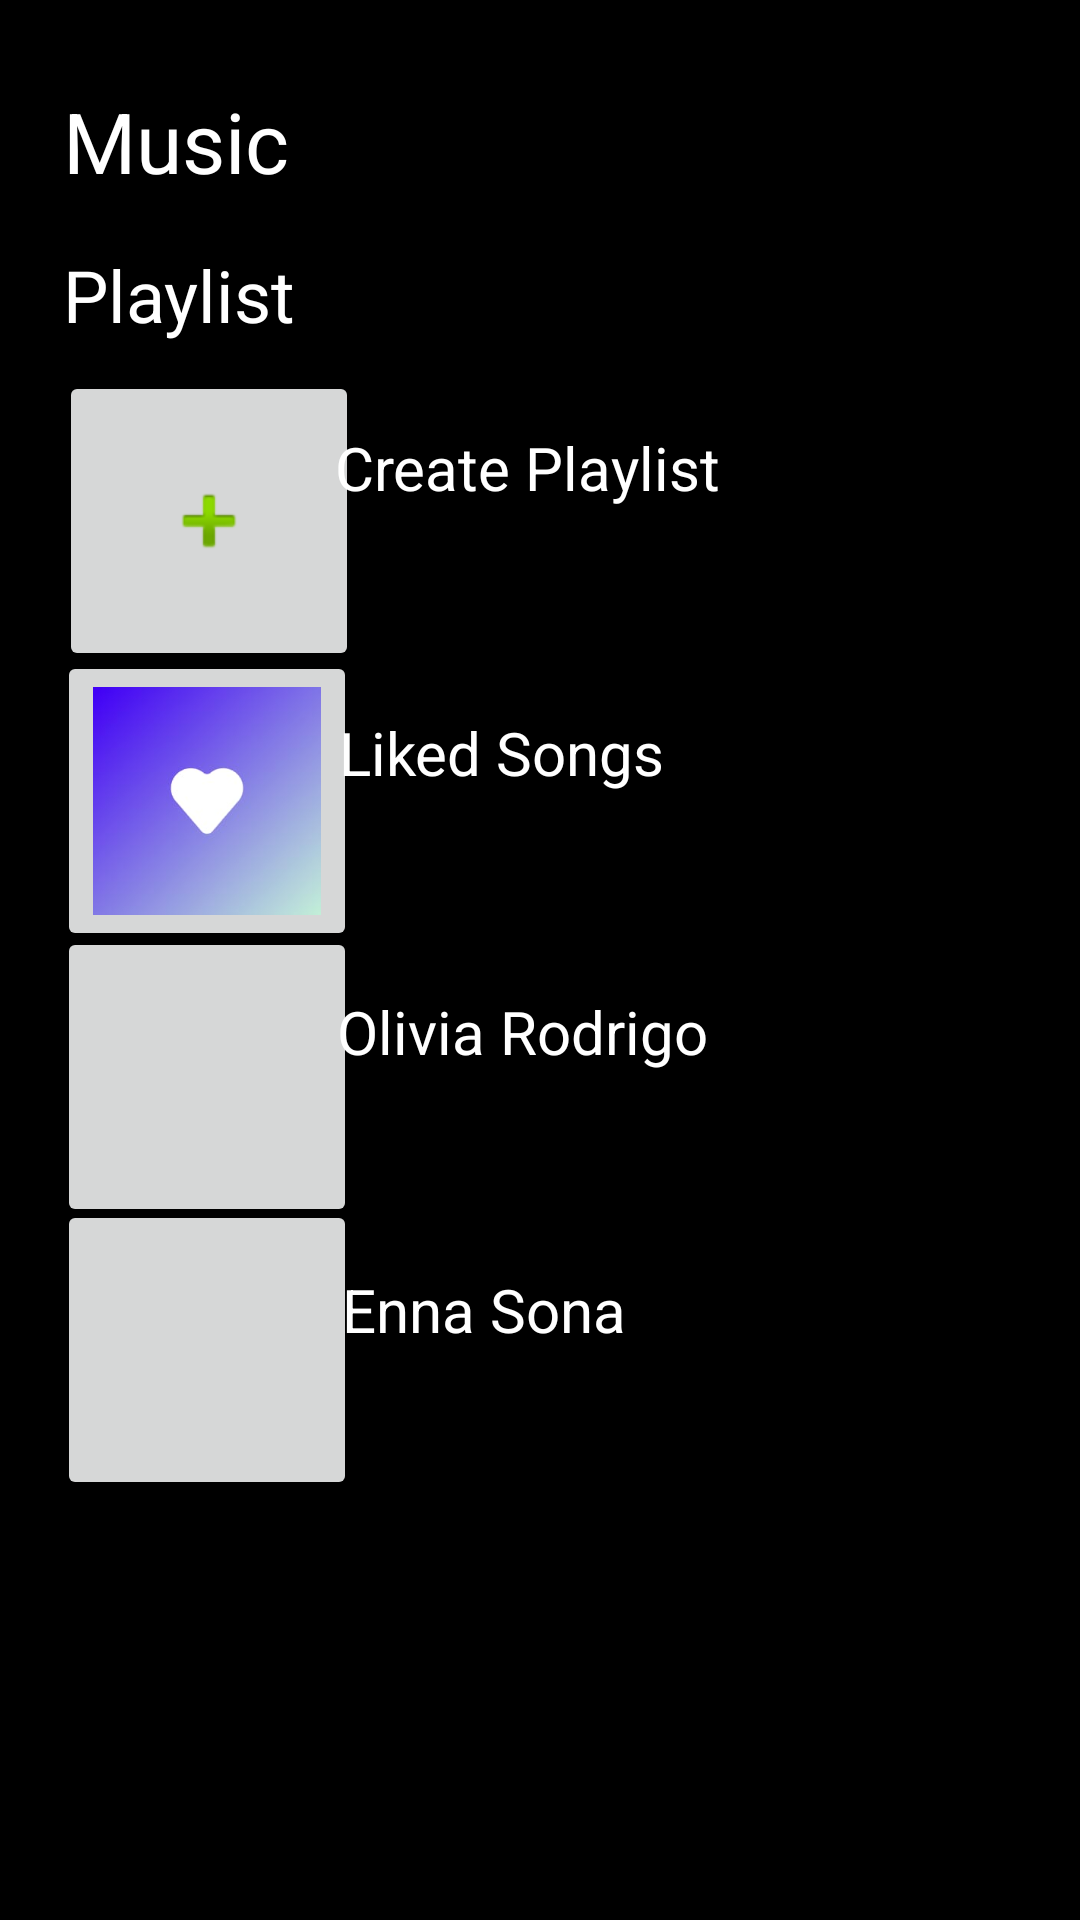

Where icons sit on this 1080 × 1920 app screen, as (x1, y1, x2, y2):
add: (70, 389, 359, 671)
